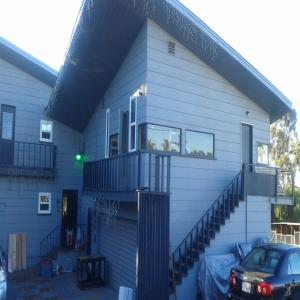Vehicle-registration-plate: (242, 281, 252, 295)
